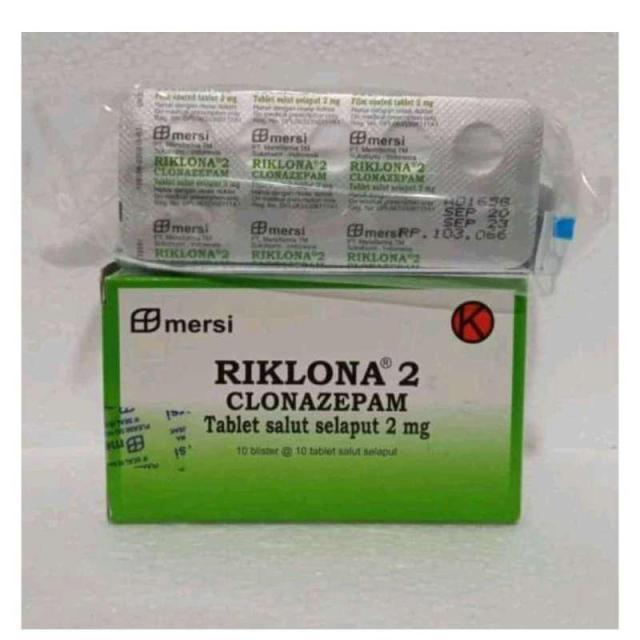drug-name: (209, 356, 427, 388)
